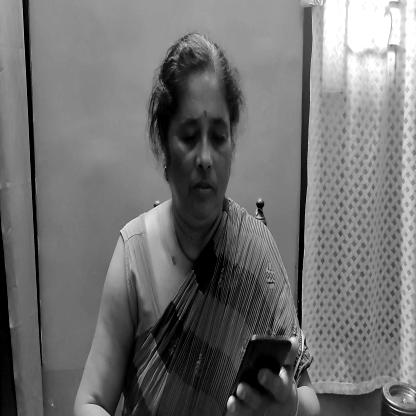Distracted: (151, 39, 243, 234)
